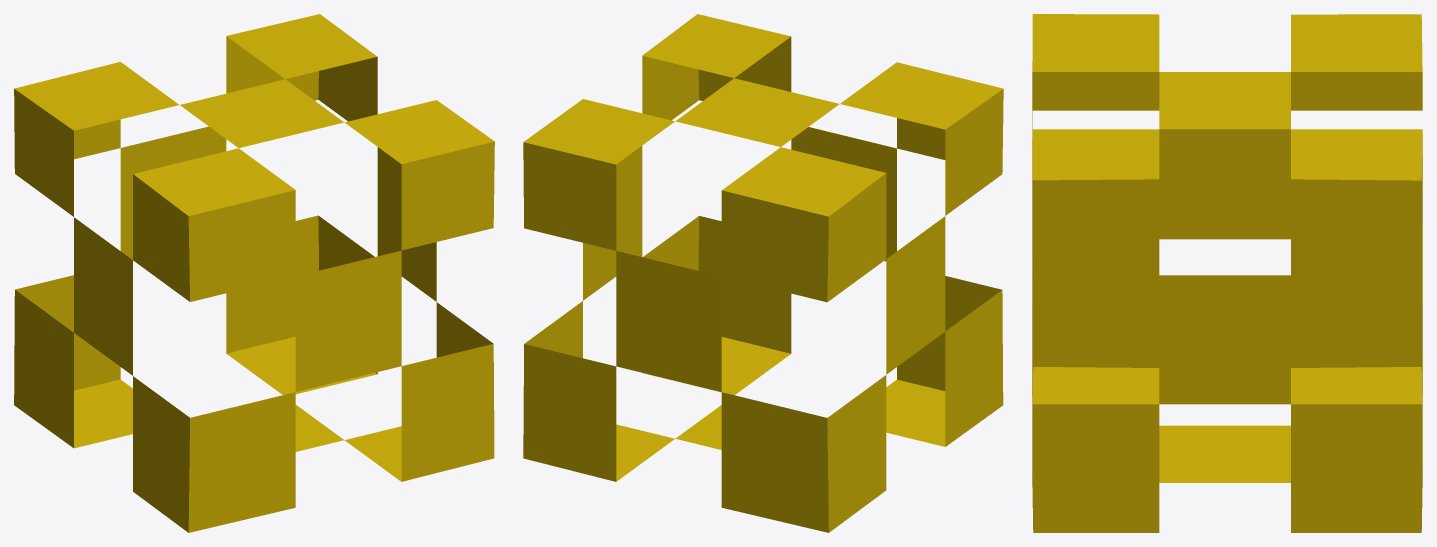
File: Player_14.fbx
3 views of the same model, side by side, from view 1: azimuth 30°, elevation 25°; view 2: azimuth 150°, elevation 25°; view 3: azimuth 270°, elevation 25° (orthographic). The views are drawn at different scales.
Parts seen in each view (by area): view 1: Cube; view 2: Cube; view 3: Cube.
Boxes of the visible parts, x1,y1,x2,y2 form: Cube: (14, 14, 494, 532); Cube: (523, 14, 1003, 532); Cube: (1032, 14, 1422, 532).
Size of the model in its own units: 202 by 200 by 200.
